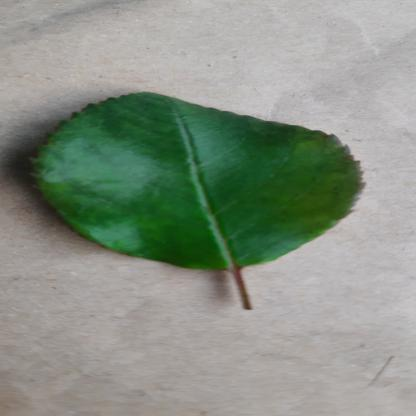normal: (15, 93, 375, 272)
